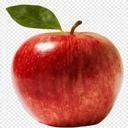apple: (10, 27, 124, 128)
